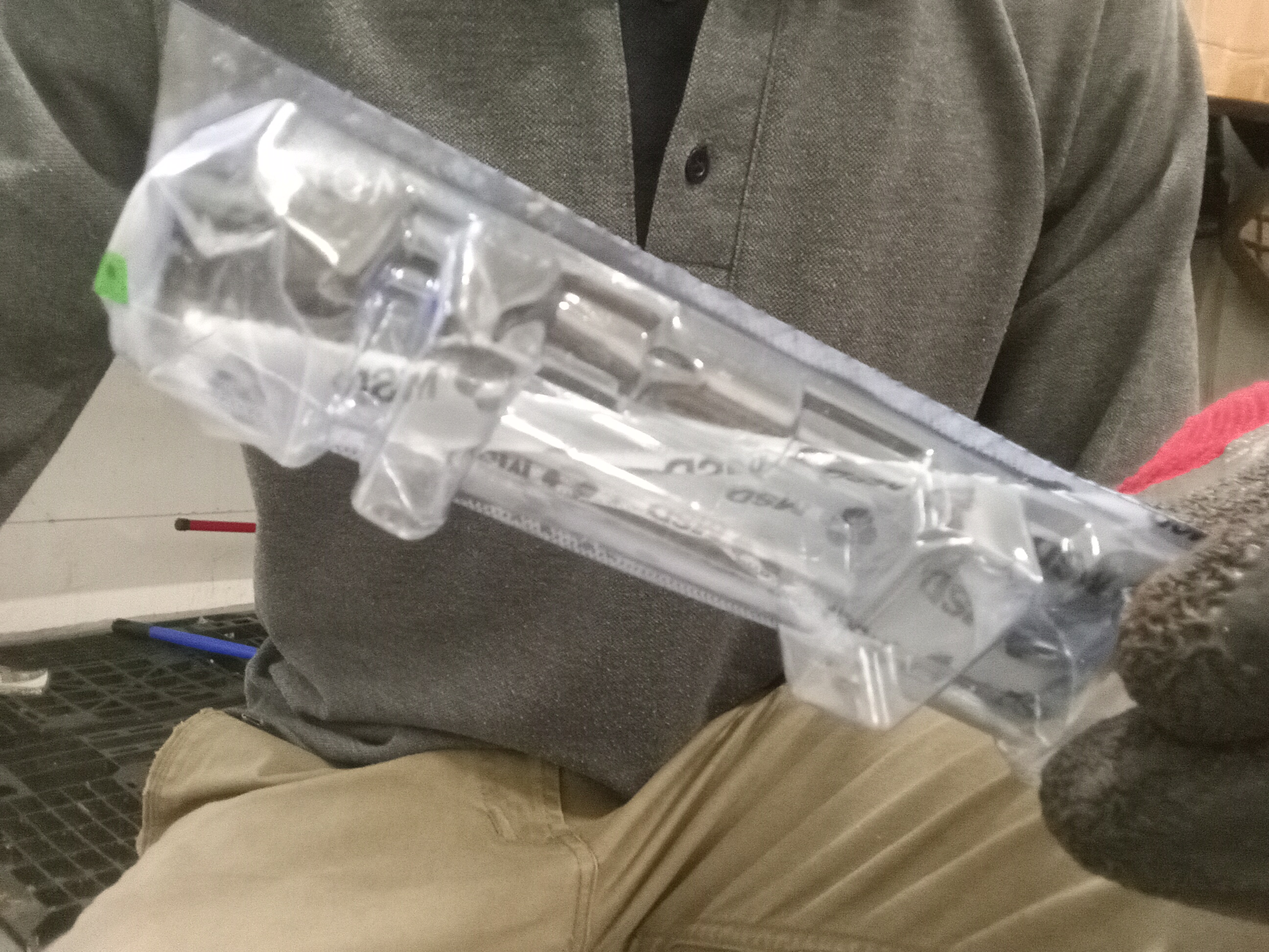Plastico: (96, 0, 1188, 732)
